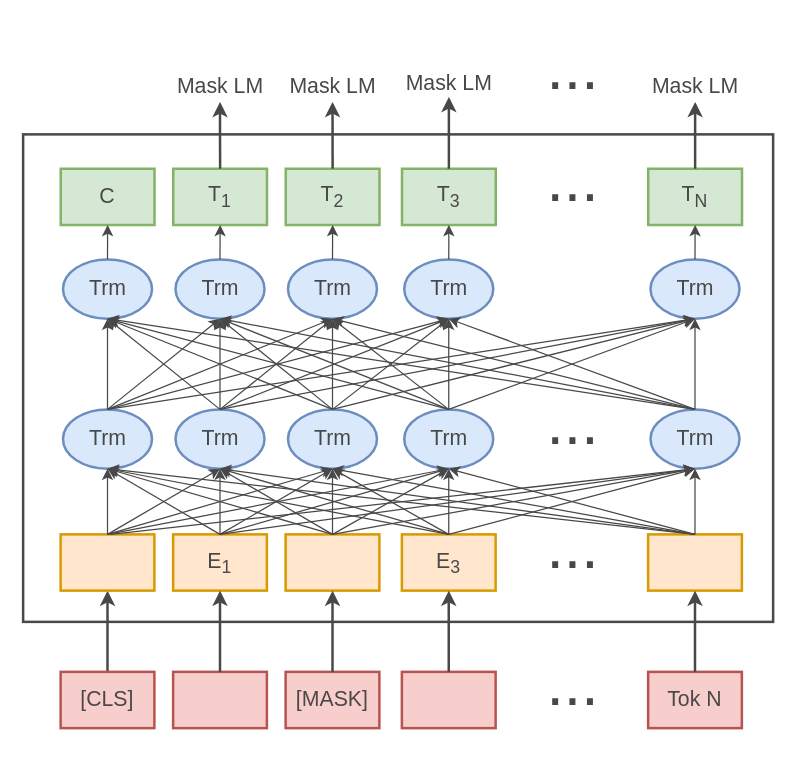
This 795x784 diagram has some shape labels left out. Here are the shapes that lost their labels. From the top down, the box of each, then its label:
(59, 532, 155, 591): E [CLS]
(284, 532, 380, 591): E 2
(646, 532, 742, 591): E N
(171, 670, 268, 729): Tok 1
(400, 670, 496, 729): Tok 3
